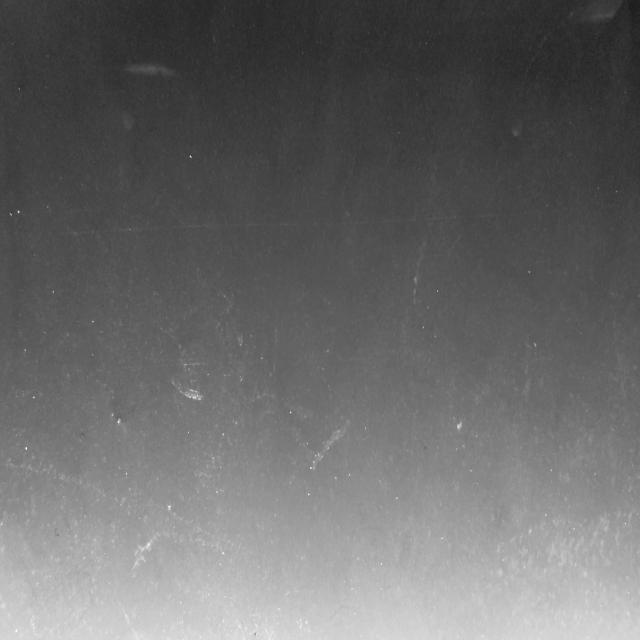beta: (0, 458, 241, 564), (520, 10, 576, 99), (412, 161, 442, 314), (612, 323, 628, 403)
